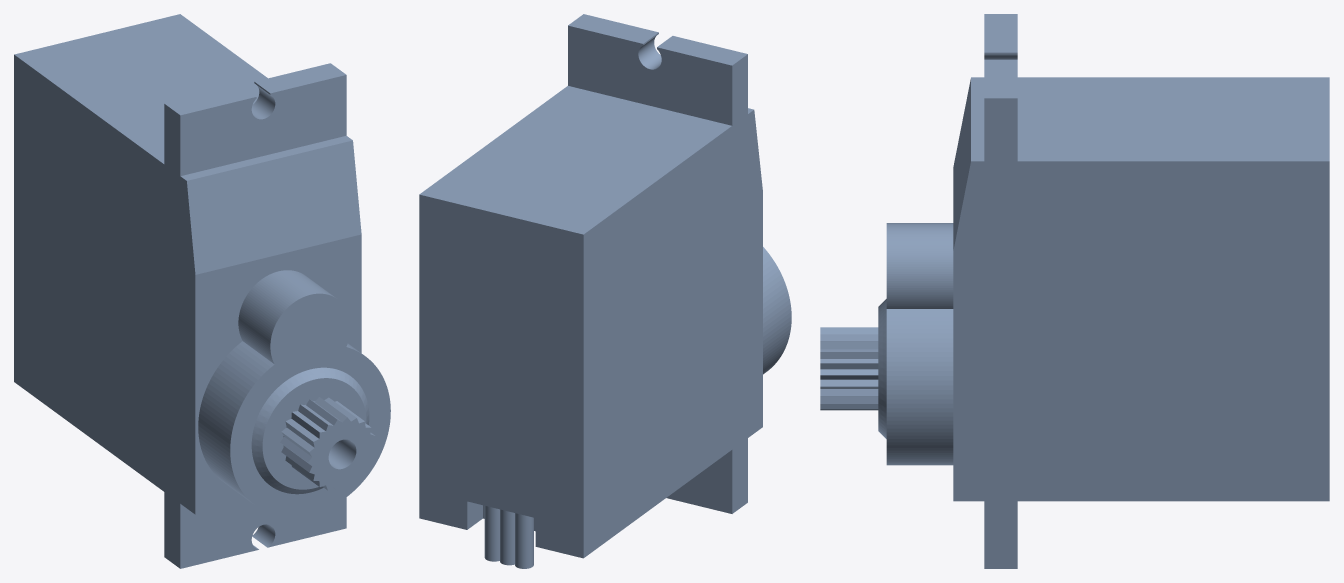
The model's file is micro_servo.obj.
The picture shows the model from 3 angles, left to right: view 1: azimuth 30°, elevation 25°; view 2: azimuth 150°, elevation 25°; view 3: azimuth 270°, elevation 25°; orthographic projection. The views are drawn at different scales.
Parts seen in each view (by area): view 1: micro_servo.stl; view 2: micro_servo.stl; view 3: micro_servo.stl.
Boxes of the visible parts, x1=… form: micro_servo.stl: x1=14, y1=14, x2=390, y2=568; micro_servo.stl: x1=419, y1=14, x2=791, y2=568; micro_servo.stl: x1=820, y1=14, x2=1329, y2=568.
Size of the model in its own units: 12 by 31.3 by 30.68.
